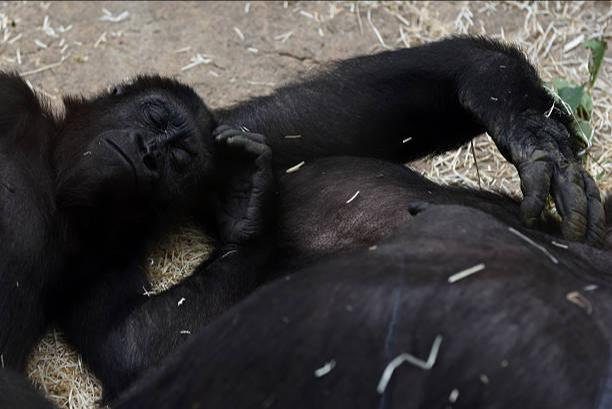gorille_Autres: (0, 26, 256, 388)
